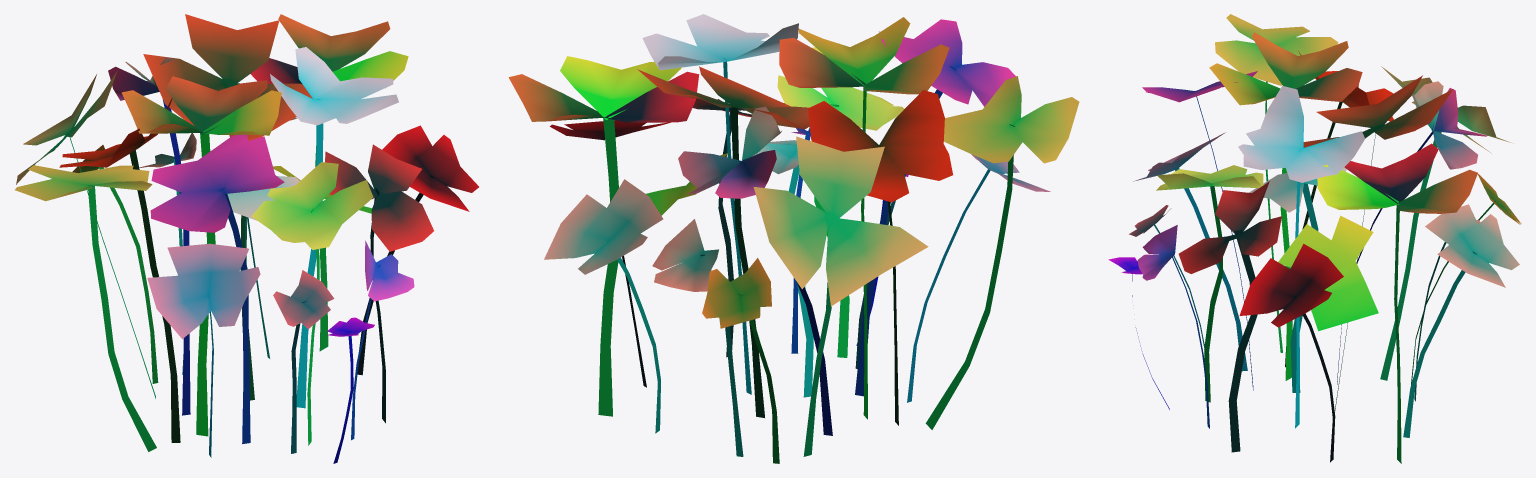
Rendered from Purple_Shamrock_rjrrH_Mid_rjrrH_VarB_LOD0.fbx.
3 renders of one model, left to right at view 1: azimuth 30°, elevation 25°; view 2: azimuth 150°, elevation 25°; view 3: azimuth 270°, elevation 25°, orthographic. The views are drawn at different scales.
Parts seen in each view (by area): view 1: _8c83_VarB_LOD1; view 2: _8c83_VarB_LOD1; view 3: _8c83_VarB_LOD1.
Boxes of the visible parts, <box> form: _8c83_VarB_LOD1: <box>15,14,478,463</box>; _8c83_VarB_LOD1: <box>508,14,1079,463</box>; _8c83_VarB_LOD1: <box>1108,14,1521,463</box>.
Size of the model in its own units: 42.16 by 30.74 by 35.34.
